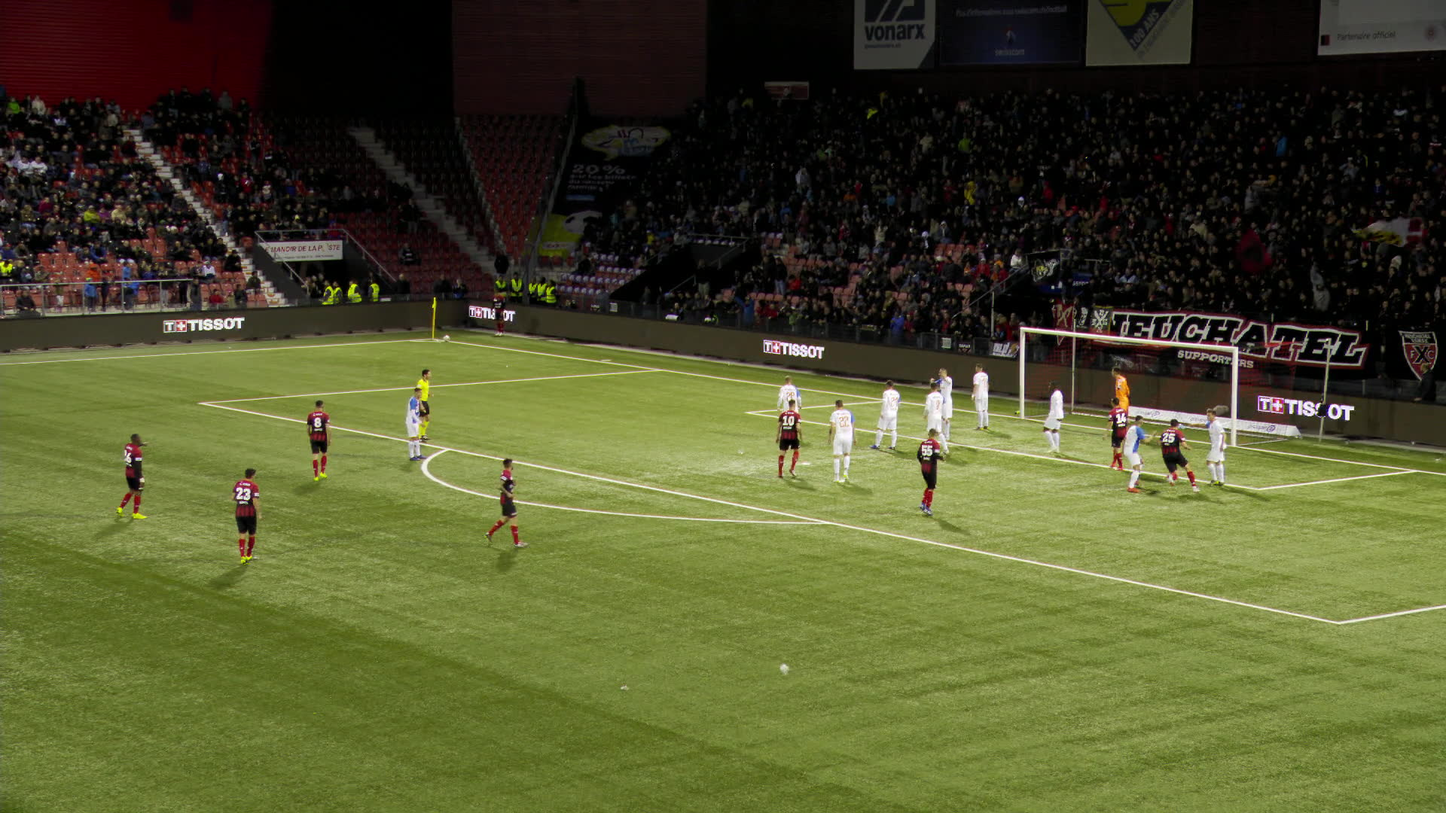ball: (442, 334, 448, 341)
player: (481, 460, 521, 547), (228, 467, 261, 565), (1155, 418, 1194, 494), (1189, 408, 1225, 486), (116, 434, 148, 519), (912, 430, 942, 516), (827, 400, 857, 483), (1119, 413, 1150, 492), (775, 397, 803, 477), (304, 400, 331, 480), (869, 379, 899, 449), (1101, 397, 1127, 470), (920, 382, 946, 454), (929, 368, 952, 441), (1040, 380, 1063, 452), (774, 375, 799, 441), (404, 388, 426, 461), (1109, 366, 1130, 426), (970, 364, 989, 429), (490, 291, 505, 336)
referee: (412, 369, 433, 440)
